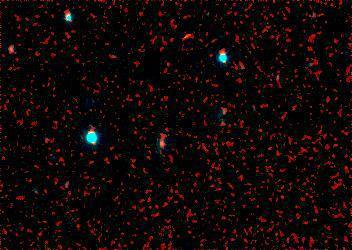star: (171, 23, 201, 53)
